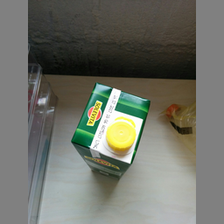juice: (71, 80, 153, 179)
